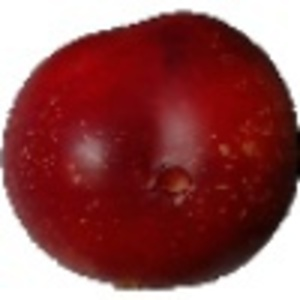nectarina: (1, 10, 300, 293)
